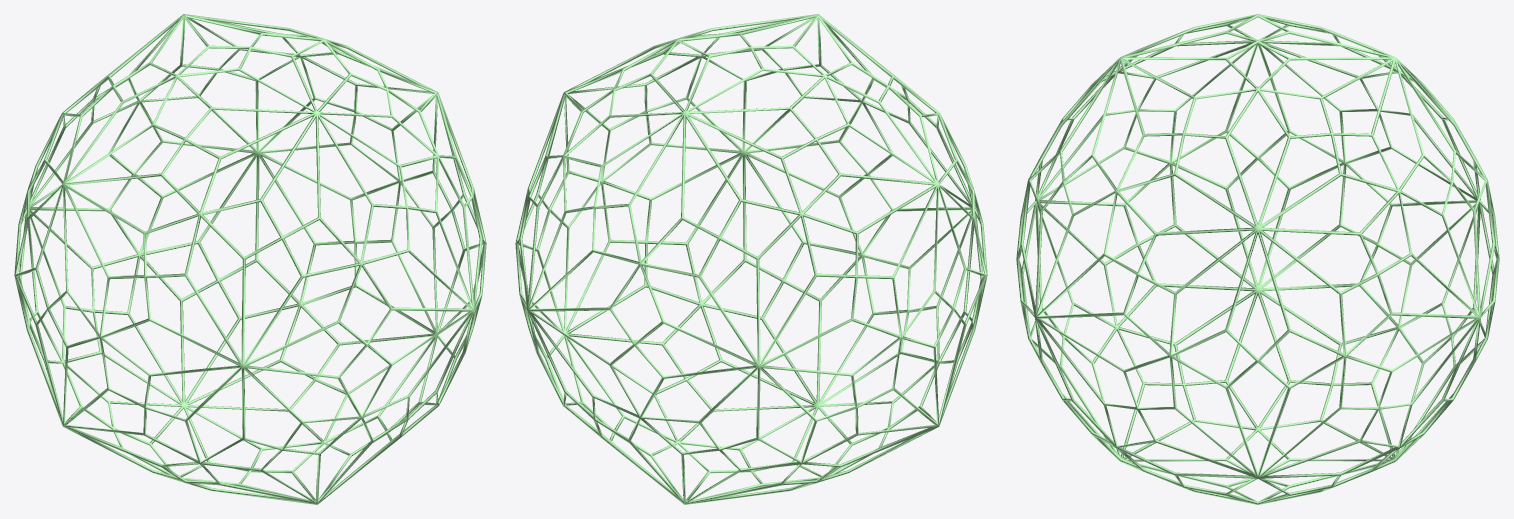
File: JoinedTruncatedIcosidodecahedron2.glb
3 views of the same model, side by side, from view 1: azimuth 30°, elevation 25°; view 2: azimuth 150°, elevation 25°; view 3: azimuth 270°, elevation 25° (orthographic). The views are drawn at different scales.
Visible parts, largest first — view 1: JoinedTruncatedIcosidodecahedron; view 2: JoinedTruncatedIcosidodecahedron; view 3: JoinedTruncatedIcosidodecahedron.
Part boxes in pixels (left/top/right/bottom): JoinedTruncatedIcosidodecahedron: left=14, top=14, right=486, bottom=504; JoinedTruncatedIcosidodecahedron: left=515, top=14, right=987, bottom=504; JoinedTruncatedIcosidodecahedron: left=1016, top=14, right=1499, bottom=504.
Bounding box in the file's own units: 7.66 × 7.66 × 7.66.
